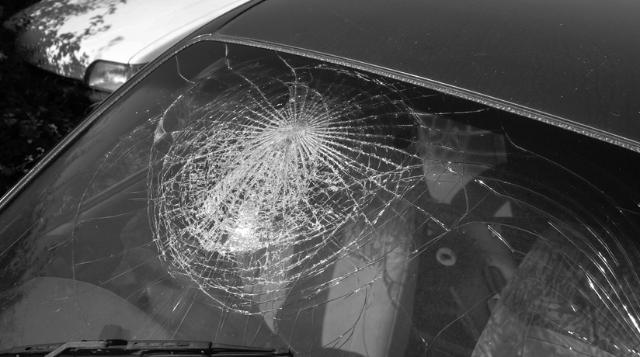Windshield: (59, 54, 636, 357)
